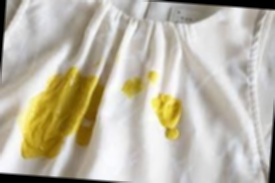mustard: (35, 66, 108, 161), (22, 96, 67, 164), (152, 92, 184, 143), (124, 72, 145, 95), (144, 68, 158, 84)
